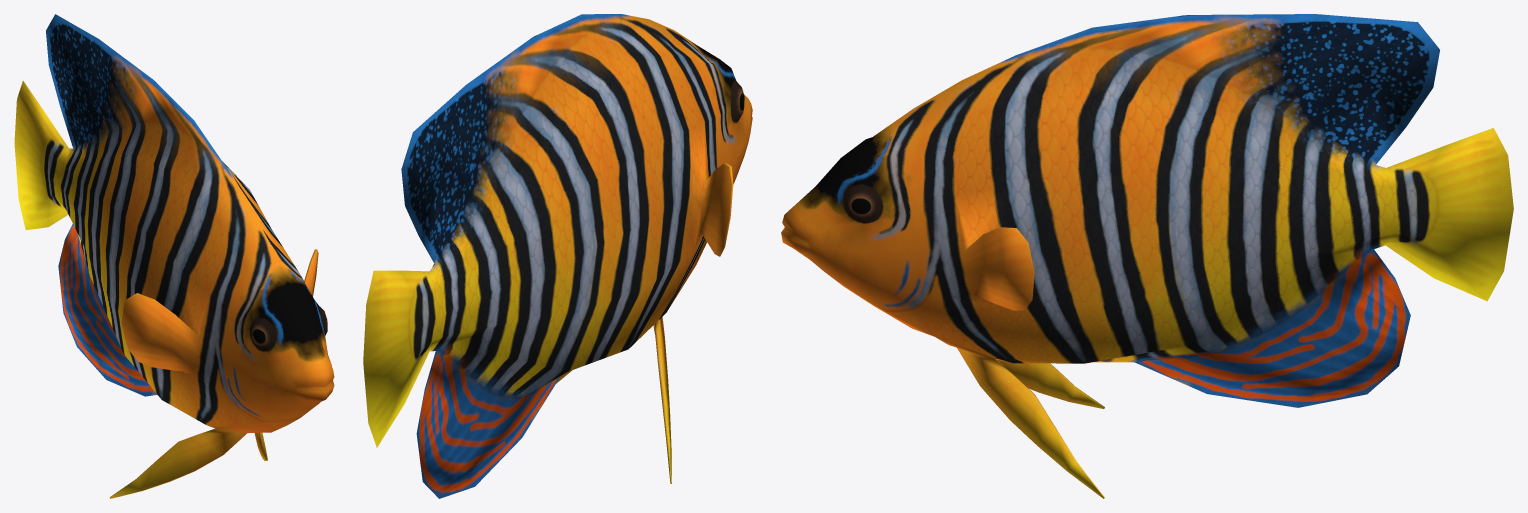
The model's file is AngelFish.glb.
3 renders of one model, left to right at view 1: azimuth 30°, elevation 25°; view 2: azimuth 150°, elevation 25°; view 3: azimuth 270°, elevation 25°, orthographic. The views are drawn at different scales.
Parts seen in each view (by area): view 1: AngelFish_Royal_Instance_Wander; view 2: AngelFish_Royal_Instance_Wander; view 3: AngelFish_Royal_Instance_Wander.
Boxes of the visible parts, box(x1,y1,x2,y2) form: AngelFish_Royal_Instance_Wander: box(14, 14, 334, 498); AngelFish_Royal_Instance_Wander: box(363, 14, 752, 498); AngelFish_Royal_Instance_Wander: box(781, 14, 1513, 498).
Size of the model in its own units: 4.68 by 8.6 by 12.98.
Materials: 1 (1 with a texture image).
